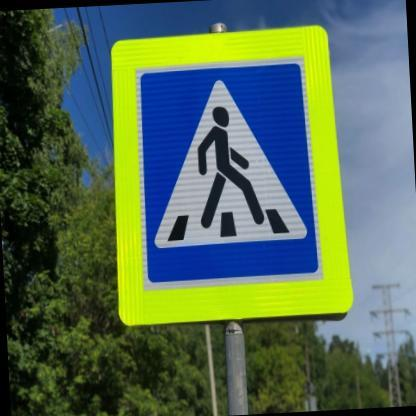road_sign: (113, 25, 352, 325)
